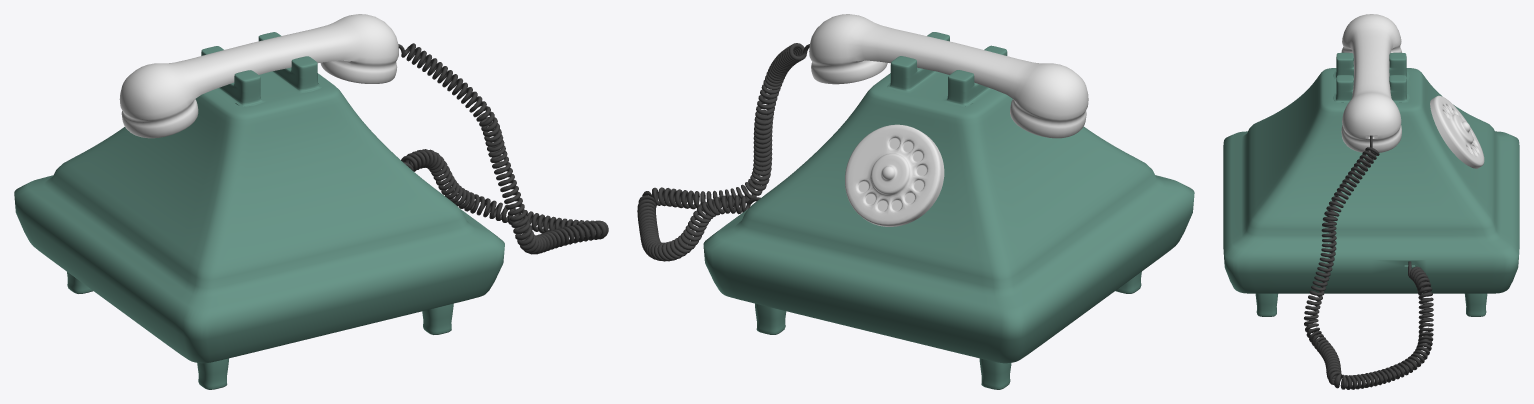
The model's file is OLD PHONE.fbx.
3 views of the same model, side by side, from view 1: azimuth 30°, elevation 25°; view 2: azimuth 150°, elevation 25°; view 3: azimuth 270°, elevation 25° (orthographic). The views are drawn at different scales.
Parts seen in each view (by area): view 1: Cube, Cube.001, Circle.001, Cube.002; view 2: Cube, Cube.001, Circle, Circle.001, Cube.002; view 3: Cube, Cube.001, Circle.001, Circle, Cube.002.
Part boxes in pixels (left/top/right/bottom): Cube: left=14, top=32, right=504, bottom=363; Cube.001: left=119, top=14, right=398, bottom=138; Circle.001: left=398, top=43, right=608, bottom=254; Cube.002: left=67, top=272, right=453, bottom=389; Cube: left=703, top=32, right=1194, bottom=363; Cube.001: left=809, top=14, right=1088, bottom=138; Circle: left=845, top=124, right=944, bottom=226; Circle.001: left=637, top=43, right=809, bottom=261; Cube.002: left=755, top=271, right=1141, bottom=389; Cube: left=1223, top=52, right=1519, bottom=293; Cube.001: left=1341, top=14, right=1401, bottom=152; Circle.001: left=1304, top=135, right=1433, bottom=389; Circle: left=1430, top=95, right=1484, bottom=168; Cube.002: left=1255, top=293, right=1487, bottom=316.
Bounding box in the file's own units: 359 × 188 × 236.
